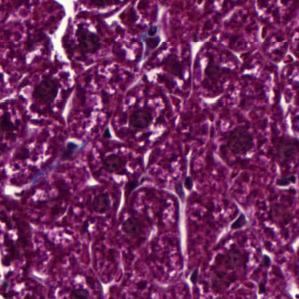inflammation: (180, 39, 249, 106), (112, 89, 171, 144), (79, 183, 122, 220)
